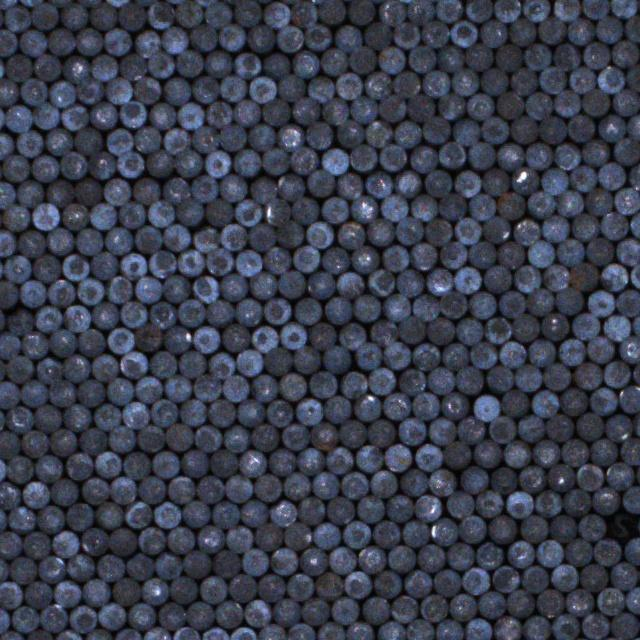tool: (18, 29, 47, 57), (246, 24, 275, 52), (61, 403, 90, 431), (204, 299, 233, 327), (568, 262, 597, 290), (399, 467, 427, 496), (537, 16, 565, 44), (219, 174, 247, 202), (2, 254, 30, 282), (32, 255, 60, 283), (350, 245, 378, 273), (438, 240, 466, 268), (527, 240, 555, 268), (79, 427, 107, 455), (136, 424, 164, 452), (483, 265, 511, 293), (439, 290, 467, 318), (526, 287, 554, 315), (278, 372, 306, 400), (296, 446, 324, 474), (342, 520, 370, 548), (96, 553, 124, 581), (185, 601, 213, 629), (530, 389, 558, 417), (338, 420, 366, 448), (428, 468, 456, 496), (443, 440, 471, 468), (503, 439, 531, 467), (474, 489, 502, 517), (487, 515, 515, 543), (562, 489, 590, 517), (386, 544, 414, 572), (559, 438, 587, 466), (334, 24, 361, 53), (5, 53, 32, 82), (538, 115, 565, 144), (175, 248, 204, 275), (556, 237, 583, 266), (474, 439, 501, 468), (430, 517, 457, 546), (148, 1, 175, 29), (189, 23, 216, 51), (364, 21, 391, 49), (421, 20, 448, 48), (566, 18, 594, 45), (594, 15, 622, 42), (62, 56, 89, 84), (377, 46, 404, 74), (248, 76, 275, 104), (596, 66, 624, 93), (72, 180, 100, 207), (276, 173, 304, 200), (234, 199, 262, 226), (205, 199, 232, 227), (454, 169, 481, 197), (146, 200, 174, 227), (162, 222, 189, 250), (90, 250, 117, 278), (47, 278, 74, 306), (62, 304, 89, 332), (21, 330, 48, 358), (77, 328, 104, 356), (540, 214, 568, 241), (571, 213, 598, 241), (234, 249, 262, 276), (497, 240, 524, 268), (77, 378, 104, 406), (106, 377, 134, 404), (94, 403, 122, 430), (5, 454, 32, 482), (192, 275, 219, 303), (262, 297, 290, 324), (513, 265, 540, 293), (600, 263, 627, 291), (555, 287, 582, 315), (22, 480, 49, 508), (66, 554, 94, 581), (24, 581, 52, 608), (53, 580, 81, 607), (251, 325, 278, 353), (308, 371, 336, 398), (180, 449, 208, 476), (209, 449, 237, 476), (225, 474, 252, 502), (65, 502, 92, 530), (269, 499, 297, 526), (138, 526, 165, 554), (183, 550, 210, 578), (112, 577, 139, 605), (315, 572, 342, 600), (344, 570, 371, 598), (367, 419, 394, 447), (398, 417, 425, 445), (456, 416, 484, 443), (545, 413, 572, 441), (576, 413, 603, 441), (415, 443, 442, 471), (340, 471, 368, 498), (459, 466, 487, 493), (518, 465, 546, 492), (532, 439, 559, 467), (417, 544, 444, 572), (593, 538, 620, 566), (372, 570, 400, 597), (404, 569, 431, 597), (391, 594, 418, 622), (420, 593, 447, 621), (536, 589, 563, 617), (596, 587, 624, 614), (605, 462, 633, 489), (35, 304, 62, 332), (49, 328, 75, 357), (120, 350, 146, 379), (178, 298, 204, 327), (324, 296, 350, 325), (175, 0, 202, 27), (203, 1, 230, 28), (163, 78, 190, 105), (510, 68, 537, 95), (74, 128, 101, 155), (247, 123, 274, 150), (393, 120, 420, 147), (174, 149, 201, 176), (31, 202, 58, 229), (45, 228, 72, 255), (18, 279, 45, 306), (91, 302, 118, 329), (248, 223, 275, 250), (275, 221, 302, 248), (367, 218, 394, 245), (527, 191, 554, 218), (584, 188, 611, 215), (205, 247, 232, 274), (292, 245, 319, 272), (20, 379, 47, 406), (234, 298, 261, 325), (134, 322, 161, 349), (336, 271, 363, 298), (352, 294, 379, 321), (587, 289, 614, 316), (82, 477, 109, 504), (149, 351, 176, 378), (134, 375, 161, 402), (165, 422, 192, 449), (309, 422, 336, 449), (238, 449, 265, 476), (195, 476, 222, 503), (124, 501, 151, 528), (182, 500, 209, 527), (212, 501, 239, 528), (254, 523, 281, 550), (141, 577, 168, 604), (229, 574, 256, 601), (257, 574, 284, 601), (215, 601, 242, 628), (574, 362, 601, 389), (488, 415, 515, 442), (355, 445, 382, 472), (384, 444, 411, 471), (506, 491, 533, 518), (565, 588, 592, 615), (551, 613, 578, 640), (589, 438, 616, 465), (117, 2, 143, 30), (48, 27, 74, 55), (76, 27, 102, 55), (104, 27, 130, 55), (134, 29, 160, 57), (218, 23, 244, 51), (276, 24, 302, 52), (450, 19, 476, 47), (480, 20, 506, 48), (508, 18, 534, 46), (119, 54, 147, 80), (176, 48, 202, 76), (205, 50, 231, 78), (582, 42, 610, 68), (132, 77, 160, 103), (218, 75, 246, 101), (539, 66, 565, 94), (438, 92, 464, 120), (525, 92, 551, 120), (106, 128, 132, 156), (480, 117, 508, 143), (567, 114, 593, 142), (204, 150, 230, 178), (162, 178, 190, 204), (176, 197, 202, 225), (512, 166, 538, 194), (541, 167, 567, 195), (598, 162, 624, 190), (89, 202, 115, 230), (468, 240, 494, 268), (586, 237, 612, 265), (6, 355, 32, 383), (5, 406, 33, 432), (121, 402, 149, 428), (50, 428, 76, 456), (162, 275, 190, 301), (220, 272, 246, 300), (278, 270, 304, 298), (468, 292, 496, 318), (498, 290, 524, 318), (138, 476, 164, 504), (51, 530, 79, 556), (83, 578, 109, 606), (40, 604, 66, 632), (280, 321, 306, 349), (399, 315, 425, 343), (236, 348, 262, 376), (264, 347, 290, 375), (323, 345, 349, 373), (150, 398, 176, 426), (268, 449, 296, 475), (108, 529, 136, 555), (270, 547, 296, 575), (328, 546, 354, 574), (200, 575, 226, 603), (362, 596, 388, 624), (326, 446, 352, 474), (370, 470, 396, 498), (372, 520, 398, 548), (447, 542, 473, 570), (565, 538, 591, 566), (432, 570, 460, 596), (478, 590, 504, 618), (579, 564, 607, 590), (592, 486, 618, 514), (30, 3, 56, 30), (89, 3, 115, 30), (290, 0, 316, 27), (304, 23, 330, 50), (393, 21, 419, 48), (233, 52, 260, 78), (292, 51, 318, 78), (349, 46, 375, 73), (20, 78, 46, 105), (105, 77, 131, 104), (278, 74, 304, 101), (335, 72, 361, 99), (392, 72, 419, 98), (481, 68, 507, 95), (568, 66, 595, 92), (16, 130, 42, 157), (32, 102, 58, 129), (119, 100, 145, 127), (148, 102, 174, 129), (176, 102, 202, 129), (205, 101, 231, 128), (292, 97, 318, 124), (350, 96, 376, 123), (378, 94, 404, 121), (611, 89, 638, 115), (44, 128, 71, 154), (218, 124, 245, 150), (452, 120, 479, 146), (88, 151, 114, 178), (116, 151, 143, 177), (46, 180, 73, 206), (103, 178, 130, 204), (570, 165, 596, 192), (105, 227, 132, 253), (120, 252, 146, 279), (76, 276, 103, 302), (120, 300, 146, 327), (107, 327, 133, 354), (306, 221, 332, 248), (396, 218, 423, 244), (438, 192, 465, 218), (497, 192, 523, 219), (556, 189, 582, 216), (613, 188, 640, 214), (454, 217, 480, 244), (482, 215, 508, 242), (512, 219, 539, 245), (601, 212, 627, 239), (263, 246, 290, 272), (62, 354, 88, 381), (149, 301, 175, 328), (294, 297, 320, 324), (163, 326, 190, 352), (306, 272, 333, 298), (397, 269, 423, 296), (426, 267, 452, 294), (454, 266, 480, 293), (35, 455, 61, 482), (151, 451, 178, 477), (50, 479, 77, 505), (168, 475, 194, 502), (36, 506, 63, 532), (22, 532, 49, 558), (38, 556, 64, 583), (12, 605, 38, 632), (69, 606, 96, 632), (98, 602, 124, 629), (293, 346, 319, 373), (383, 342, 410, 368), (442, 343, 468, 370), (164, 374, 190, 401), (193, 374, 219, 401), (221, 375, 248, 401), (251, 374, 277, 401), (236, 399, 263, 425), (266, 399, 292, 426), (223, 425, 249, 452), (251, 424, 278, 450), (254, 474, 280, 501), (284, 472, 310, 499), (312, 471, 338, 498), (154, 501, 180, 528), (298, 497, 324, 524), (327, 496, 353, 523), (81, 528, 108, 554), (283, 523, 310, 549), (313, 523, 340, 549), (213, 550, 240, 576), (300, 548, 326, 575), (358, 546, 384, 573), (244, 599, 270, 626), (158, 602, 185, 628), (512, 314, 538, 341), (540, 312, 566, 339), (398, 368, 425, 394), (354, 394, 381, 420), (534, 489, 560, 516), (402, 520, 428, 547), (458, 515, 484, 542), (578, 513, 604, 540), (547, 463, 573, 490), (576, 464, 602, 491), (536, 539, 562, 566), (449, 593, 476, 619), (506, 589, 533, 615), (581, 612, 608, 638), (611, 612, 638, 638), (49, 80, 74, 108), (407, 94, 432, 122), (305, 121, 330, 149), (496, 144, 524, 169), (118, 200, 143, 228), (36, 356, 61, 384), (49, 379, 74, 407), (368, 268, 393, 296), (384, 294, 409, 322), (341, 371, 366, 399), (239, 501, 267, 526), (242, 547, 267, 575), (324, 395, 349, 423), (605, 414, 630, 442), (162, 25, 186, 54), (60, 3, 86, 29), (233, 0, 259, 26), (90, 54, 116, 80), (148, 51, 174, 77), (408, 46, 434, 72), (465, 44, 491, 70), (524, 43, 550, 69), (552, 44, 578, 70), (76, 78, 102, 104), (192, 76, 218, 102), (364, 72, 390, 98), (90, 102, 116, 128), (262, 100, 288, 126), (322, 98, 348, 124), (496, 92, 522, 118), (582, 90, 608, 116), (162, 128, 188, 154), (276, 125, 302, 151), (336, 120, 362, 146), (365, 120, 391, 146), (423, 116, 449, 142), (32, 155, 58, 181), (233, 150, 259, 176), (262, 146, 288, 172), (290, 147, 316, 173), (349, 144, 375, 170), (380, 194, 406, 220), (410, 194, 436, 220), (321, 197, 347, 223), (18, 231, 44, 257), (148, 251, 174, 277), (134, 276, 160, 302), (425, 219, 451, 245), (382, 245, 408, 271), (34, 405, 60, 431), (250, 272, 276, 298), (192, 325, 218, 351), (412, 294, 438, 320), (7, 506, 33, 532), (309, 323, 335, 349), (338, 323, 364, 349), (427, 318, 453, 344), (456, 318, 482, 344), (368, 368, 394, 394), (208, 400, 234, 426), (194, 425, 220, 451), (168, 526, 194, 552), (198, 526, 224, 552), (226, 526, 252, 552), (170, 577, 196, 603), (272, 599, 298, 625), (484, 316, 510, 342), (427, 367, 453, 393), (514, 365, 540, 391), (383, 393, 409, 419), (590, 388, 616, 414), (518, 416, 544, 442), (490, 467, 516, 493), (357, 496, 383, 522), (386, 494, 412, 520), (414, 494, 440, 520), (520, 516, 546, 542), (521, 566, 547, 592), (611, 562, 637, 588), (263, 1, 288, 28), (450, 70, 477, 95), (134, 126, 159, 153), (192, 125, 217, 152), (511, 116, 536, 143), (307, 170, 334, 195), (614, 137, 639, 164), (1, 205, 28, 230), (134, 226, 161, 251), (61, 254, 88, 279), (410, 243, 435, 270), (92, 354, 117, 381), (22, 429, 47, 456), (110, 476, 135, 503), (10, 557, 35, 584), (470, 341, 495, 368), (296, 397, 321, 424), (282, 424, 309, 449), (97, 502, 122, 529), (287, 573, 312, 600), (413, 392, 438, 419), (508, 540, 533, 567), (544, 263, 568, 291), (154, 554, 182, 578), (521, 616, 549, 640), (378, 0, 404, 25), (34, 54, 59, 80), (321, 48, 346, 74), (495, 44, 520, 70), (612, 41, 637, 67), (307, 76, 332, 102), (467, 94, 492, 120), (554, 90, 579, 116), (60, 152, 85, 178), (147, 150, 172, 176), (322, 148, 347, 174), (366, 172, 392, 197), (379, 145, 405, 170), (394, 171, 420, 196), (411, 146, 436, 172), (439, 142, 464, 168), (425, 170, 450, 196), (291, 198, 317, 223), (526, 143, 551, 169), (483, 169, 508, 195), (76, 228, 101, 254), (7, 309, 32, 335), (220, 223, 246, 248), (322, 247, 348, 272), (615, 238, 640, 264), (108, 427, 134, 452), (222, 324, 247, 350), (67, 453, 92, 479), (123, 452, 148, 478), (128, 603, 153, 629), (180, 399, 205, 425), (332, 598, 357, 624), (302, 599, 328, 624), (572, 313, 598, 338), (604, 314, 629, 340), (528, 340, 553, 366), (558, 339, 583, 365), (604, 362, 629, 388), (441, 392, 466, 418), (501, 390, 526, 416), (446, 491, 472, 516), (550, 516, 575, 542), (476, 543, 502, 568), (493, 566, 518, 592), (551, 564, 576, 590), (6, 105, 30, 132), (60, 106, 87, 130), (192, 175, 216, 202), (352, 195, 376, 222), (107, 276, 131, 303), (192, 228, 219, 252), (616, 289, 640, 316), (356, 342, 380, 369), (414, 344, 438, 371), (498, 342, 525, 366), (468, 142, 493, 167), (554, 144, 579, 169), (63, 203, 88, 228), (469, 193, 494, 218), (95, 451, 120, 476), (179, 351, 204, 376), (127, 554, 152, 579), (4, 7, 30, 31), (408, 0, 434, 24), (264, 53, 288, 79), (438, 45, 462, 71), (424, 70, 448, 96), (234, 100, 258, 126), (598, 116, 624, 140), (3, 154, 27, 180), (133, 178, 159, 202), (264, 198, 288, 224), (339, 222, 363, 248), (456, 367, 482, 391), (543, 364, 569, 388), (561, 390, 585, 416), (429, 418, 453, 444), (463, 568, 489, 592), (494, 616, 520, 640), (251, 178, 276, 202), (371, 321, 396, 345), (209, 352, 233, 377), (588, 337, 612, 362), (474, 395, 498, 420), (318, 0, 344, 23), (487, 367, 513, 390), (18, 182, 42, 206), (348, 0, 373, 23), (337, 173, 360, 198), (436, 0, 462, 22), (494, 0, 520, 22), (0, 532, 21, 559), (0, 581, 21, 608), (583, 140, 607, 163), (466, 617, 490, 640), (466, 0, 491, 22), (554, 0, 580, 21), (436, 619, 462, 640), (523, 0, 548, 21), (619, 337, 640, 362), (619, 387, 640, 412), (407, 619, 432, 640), (620, 438, 640, 464), (0, 431, 19, 458), (622, 486, 640, 514), (582, 0, 608, 19), (0, 382, 19, 408), (0, 481, 19, 507), (378, 621, 404, 640), (346, 621, 372, 640), (0, 332, 18, 359), (0, 28, 17, 56), (318, 622, 344, 640), (258, 624, 286, 640), (610, 0, 636, 17), (0, 79, 17, 105), (288, 623, 314, 640), (624, 15, 640, 42), (625, 586, 640, 614), (0, 281, 16, 307), (624, 538, 640, 564), (626, 64, 640, 92), (0, 132, 14, 160), (142, 626, 170, 640), (0, 182, 14, 208), (0, 230, 14, 256), (172, 626, 198, 640), (202, 626, 228, 640), (230, 626, 256, 640), (626, 114, 640, 138), (629, 163, 640, 189)
tool_b: (606, 510, 638, 541)
